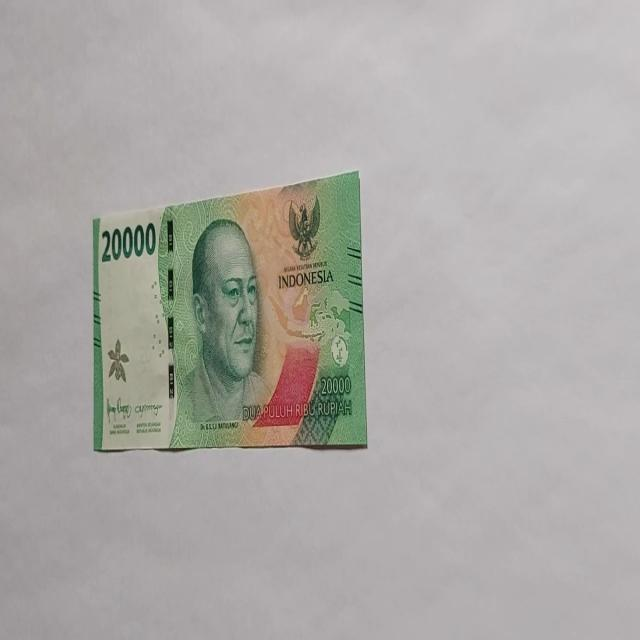dua puluh ribu rupiah: (91, 168, 368, 454), (169, 216, 274, 447)
